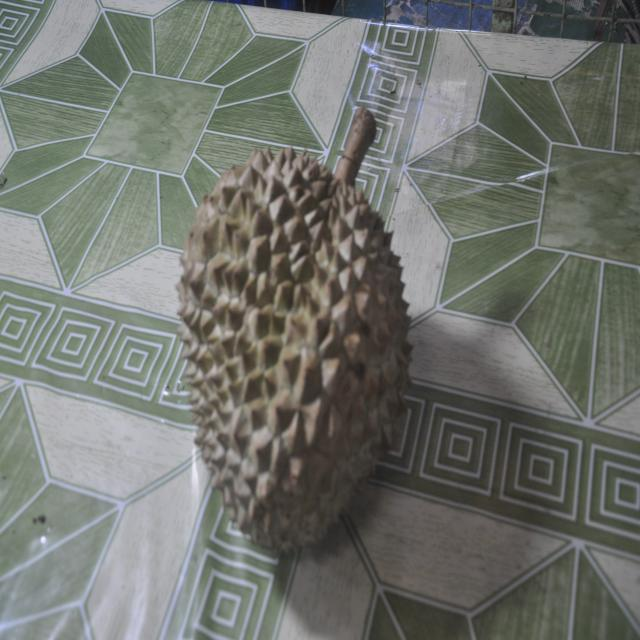mature: (178, 108, 411, 557)
